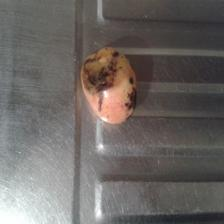Mango Rotten: (77, 50, 142, 123)
